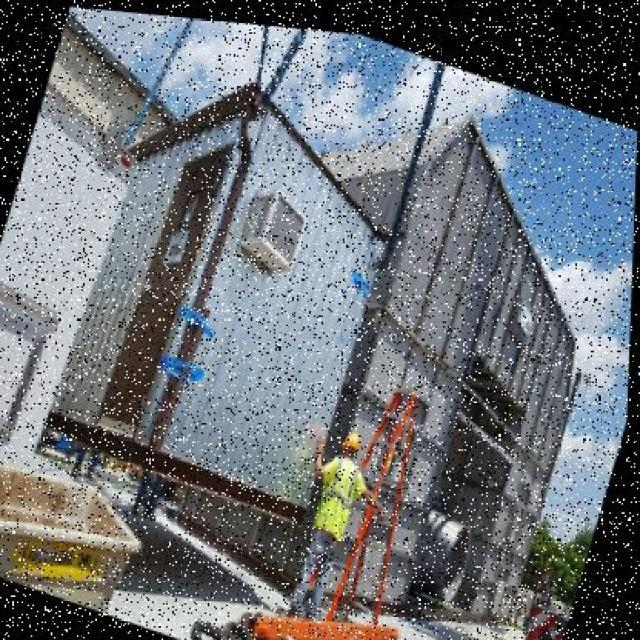helmet: (337, 412, 369, 456)
vest: (303, 440, 377, 550)
